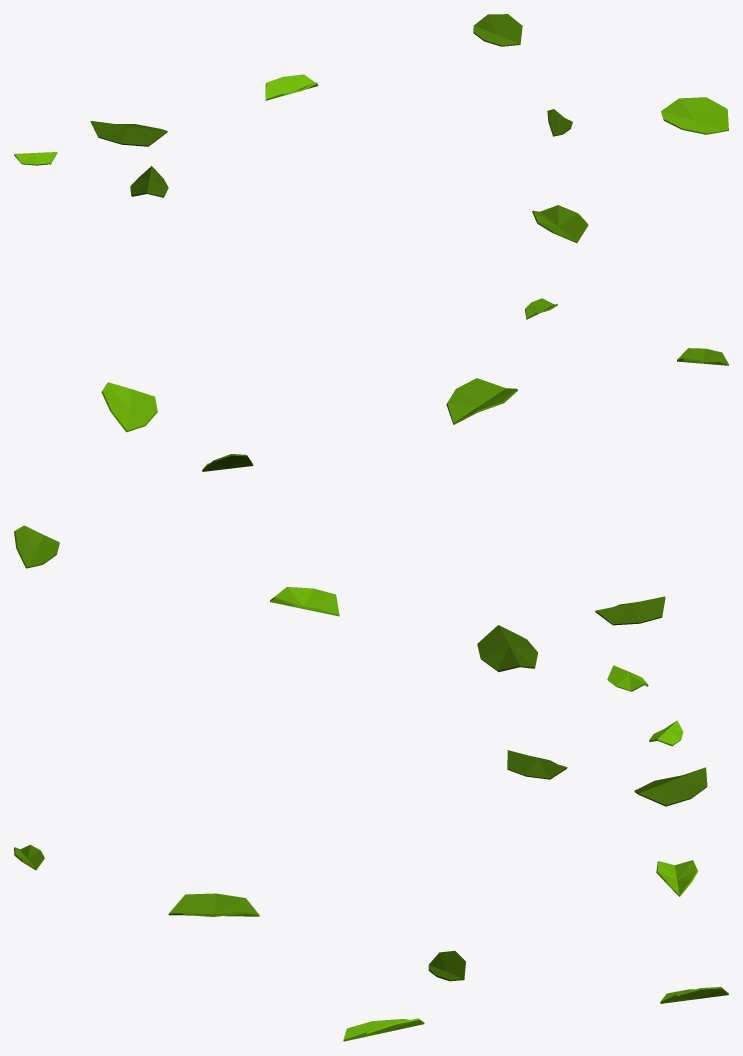
Rendered from Hojas1 .fbx.
The picture shows the model from 3 angles, top to bottom: view 1: azimuth 30°, elevation 25°; view 2: azimuth 150°, elevation 25°; view 3: azimuth 270°, elevation 25°; orthographic projection. The views are drawn at different scales.
Parts seen in each view (by area): view 1: Hojas 1; view 2: Hojas 1; view 3: Hojas 1.
Part boxes in pixels (x1,y1,x2,y2): Hojas 1: (14,14,728,319); Hojas 1: (14,348,728,691); Hojas 1: (14,720,728,1041).
Size of the model in its own units: 211 by 5.86 by 200.
